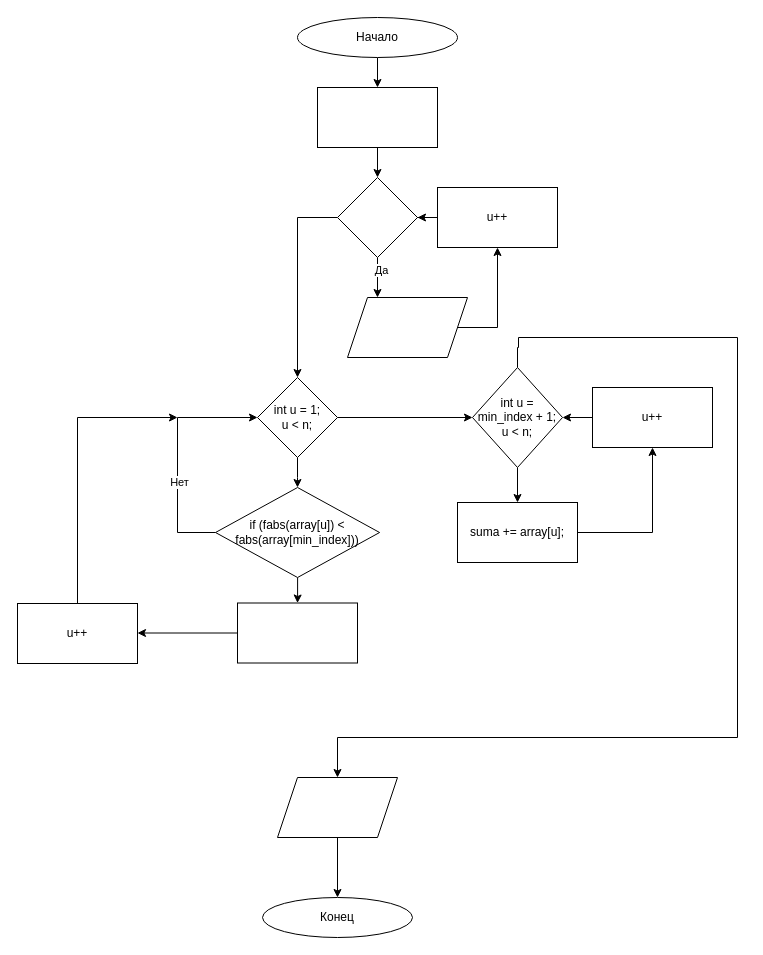
The diagram is 763 pixels wide and 955 high, and some of its shapes have lost their labels. The shapes that lost their labels are listed below. From the top down, each one's centre as x and y in pixels, then its label:
(377,117): int n = 10; int min_index = 0; double array[N]; double suma = 0;
(377,217): int u = 0; u < n;
(407,327): array[u]
(297,632): min_index = u;
(337,807): suma
